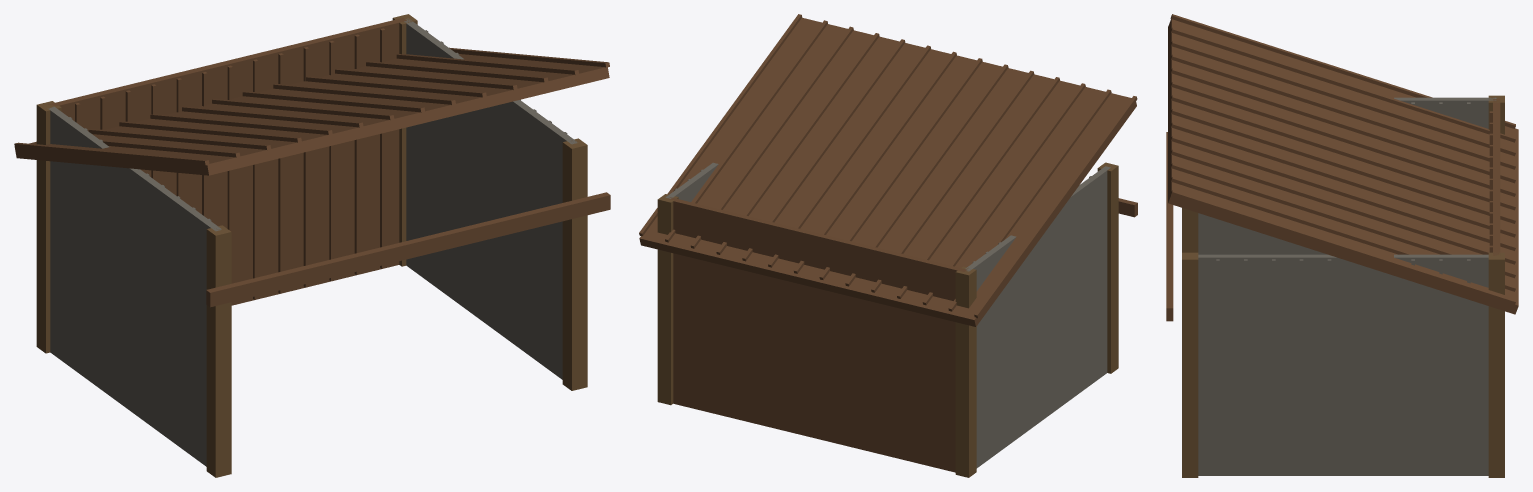
Rendered from bldg_storage_shed.glb.
3 views of the same model, side by side, from view 1: azimuth 30°, elevation 25°; view 2: azimuth 150°, elevation 25°; view 3: azimuth 270°, elevation 25° (orthographic). The views are drawn at different scales.
Parts seen in each view (by area): view 1: WallPanel_Tin (×3), RoofPanel_Sloped, RoofDeck, CornerPost (×4); view 2: WallPanel_Tin (×3), RoofDeck, RoofPanel_Sloped, CornerPost (×3); view 3: WallPanel_Tin (×3), RoofDeck, RoofPanel_Sloped, CornerPost (×3).
Boxes of the visible parts, bbox=[...] form: WallPanel_Tin (×3): bbox=[47, 18, 577, 466]; RoofPanel_Sloped: bbox=[14, 47, 610, 307]; RoofDeck: bbox=[14, 54, 609, 175]; CornerPost (×4): bbox=[36, 14, 587, 477]; WallPanel_Tin (×3): bbox=[665, 162, 1110, 472]; RoofDeck: bbox=[639, 17, 1136, 326]; RoofPanel_Sloped: bbox=[639, 14, 1137, 318]; CornerPost (×3): bbox=[657, 162, 1118, 477]; WallPanel_Tin (×3): bbox=[1198, 97, 1500, 475]; RoofDeck: bbox=[1168, 19, 1518, 314]; RoofPanel_Sloped: bbox=[1166, 14, 1515, 321]; CornerPost (×3): bbox=[1182, 208, 1504, 477].
Size of the model in its own units: 4.09 by 3.14 by 3.42.
